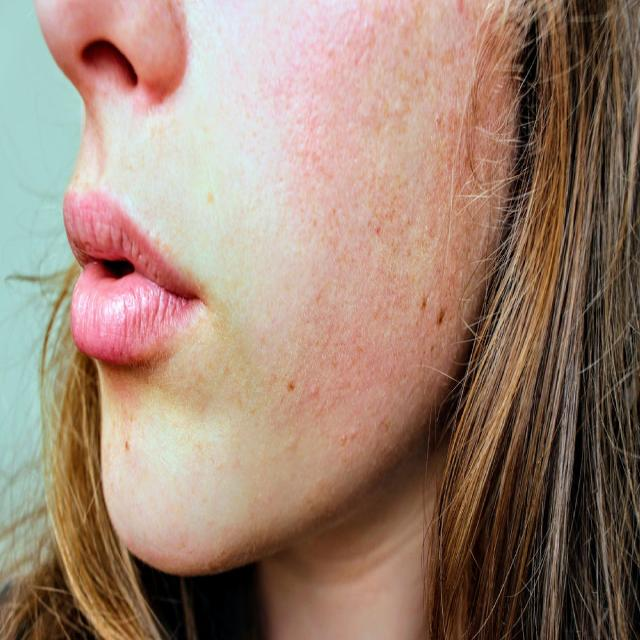Dry-Skin: (235, 11, 418, 458)
